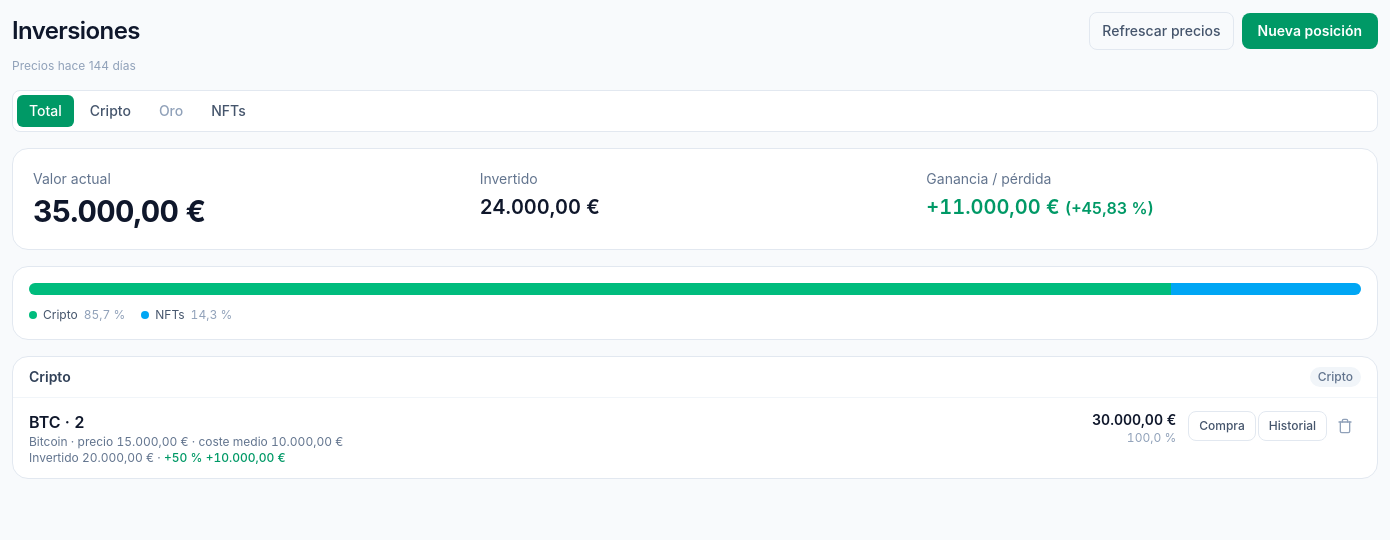
Test case: InvestmentsPage › says so when a holding has no lots
This screenshot has width=1390, height=540.
Click the button "Historial": [1292, 426] box [1258,411,1327,441]
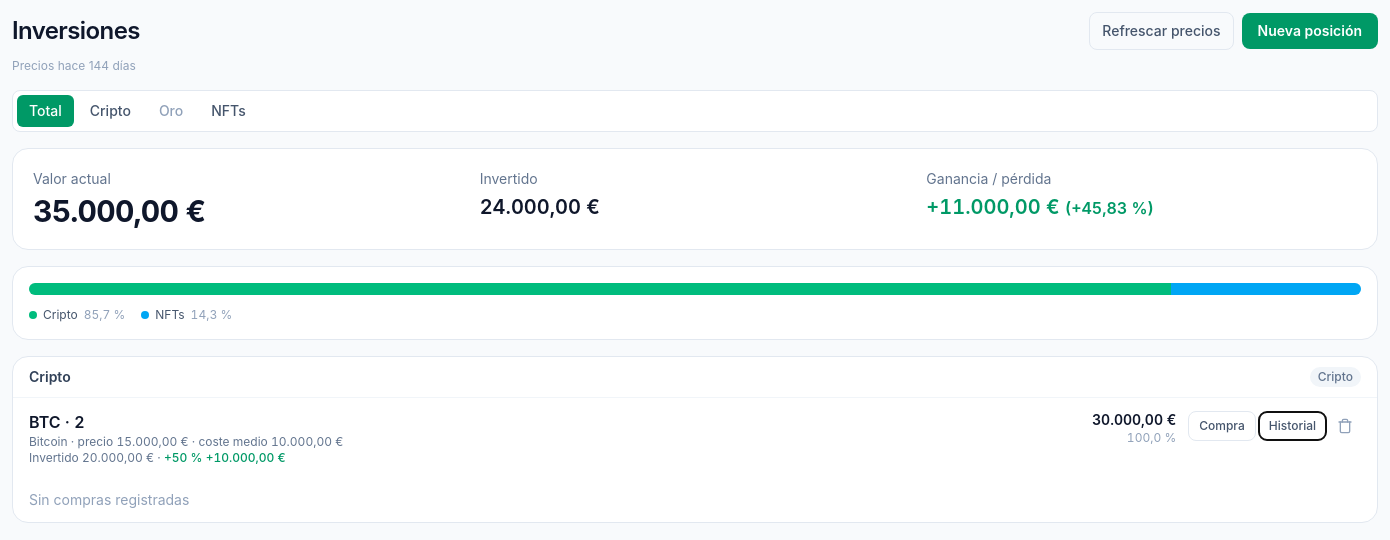
Expected: the text "Sin compras registradas" is shown, [29,491,189,508]
